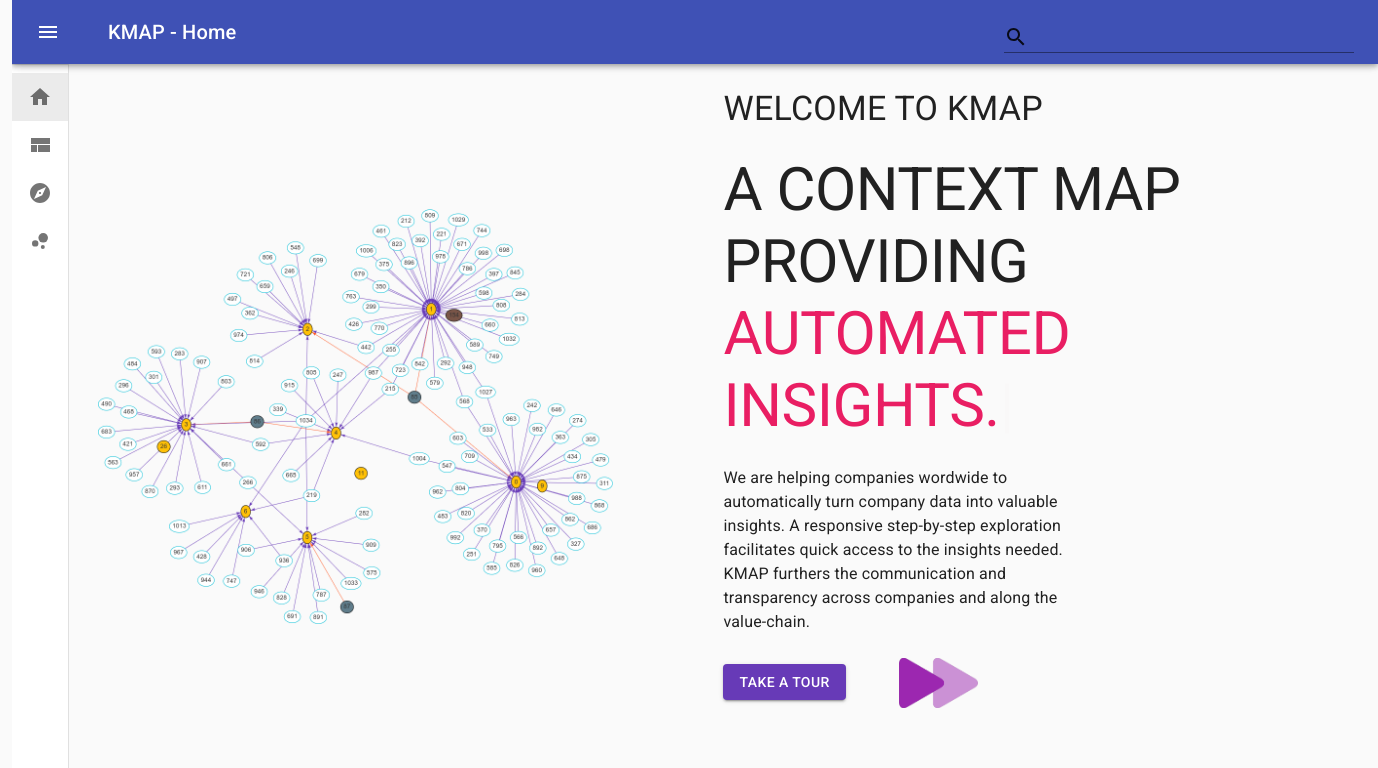
Test: Routes › has an accessible visualization route
The image size is (1378, 768).
Click the button named "open drawer": point(48, 32) [24,8,72,56]
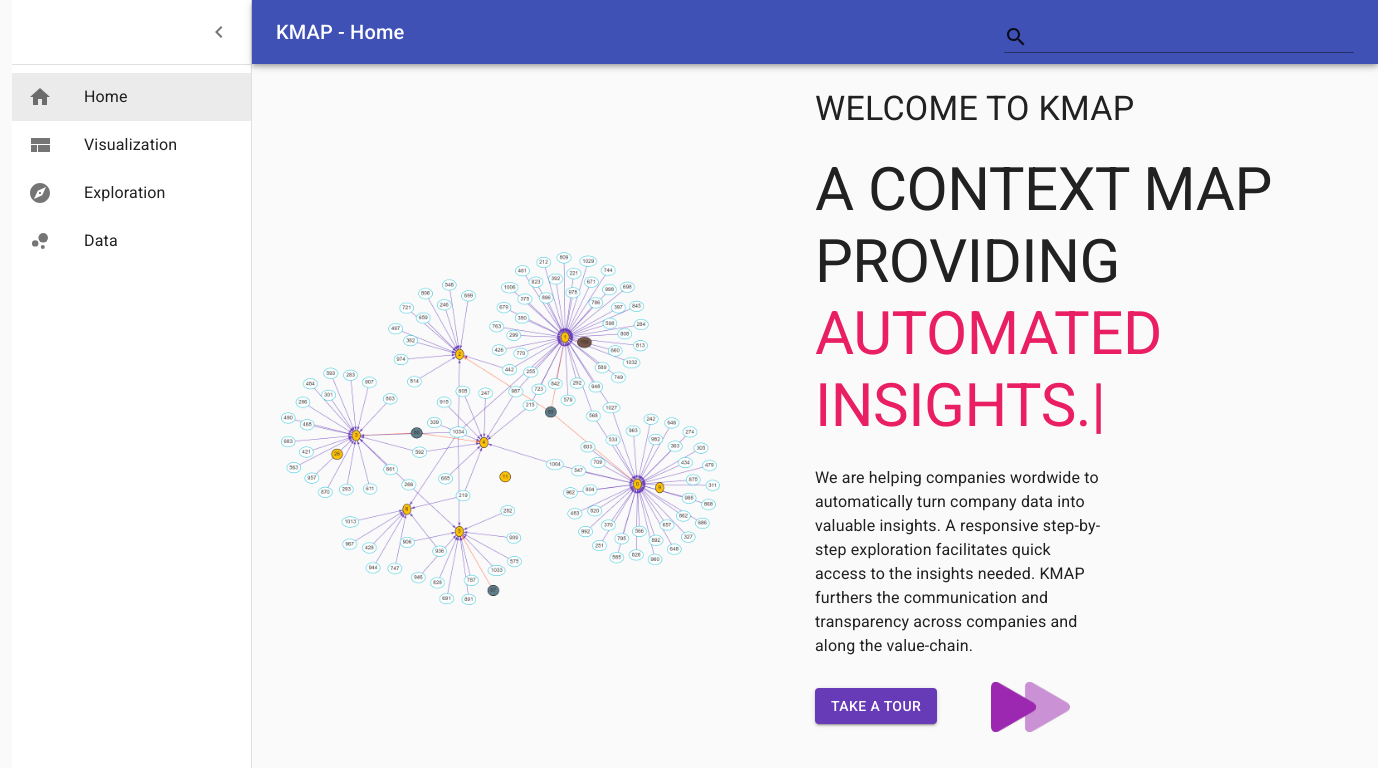
Click the button "Visualization": point(103, 145) [28,133,177,157]
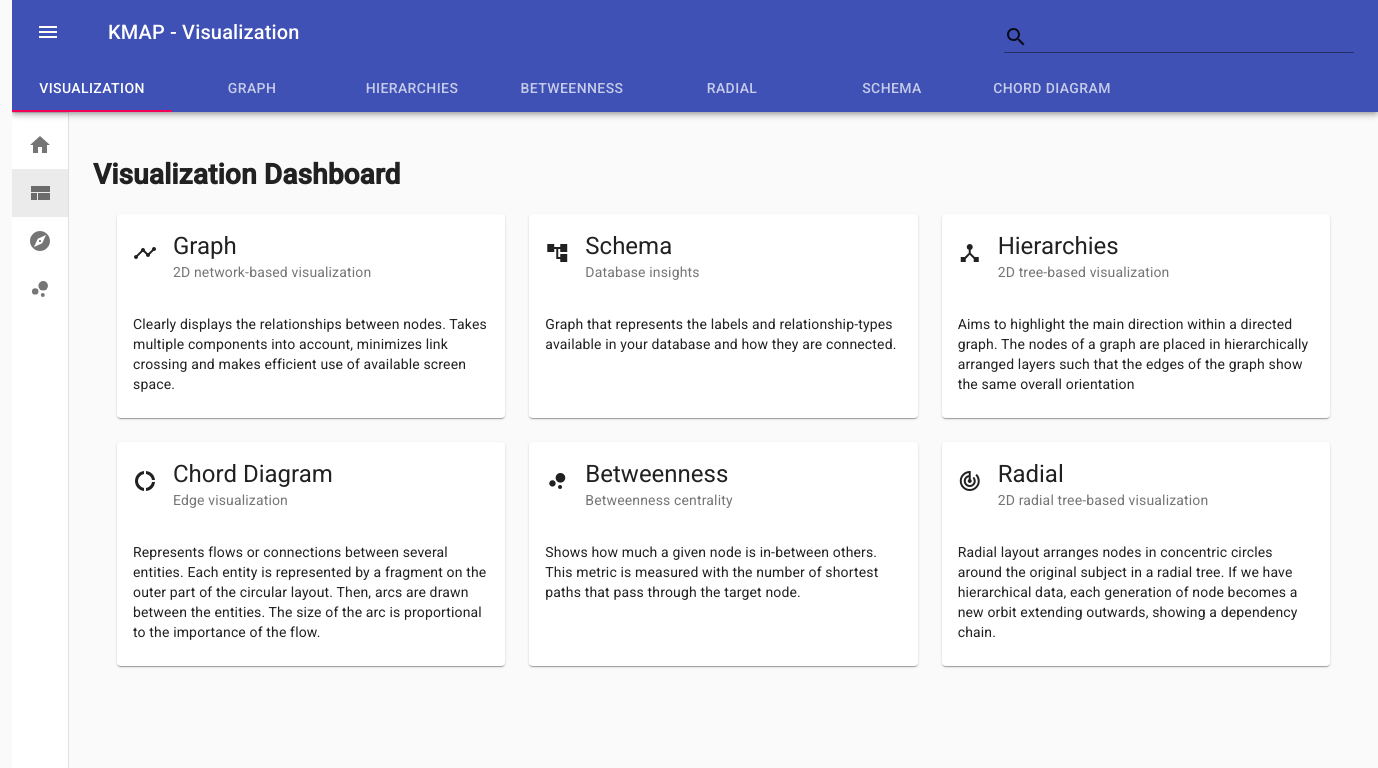
Expected: the heading "KMAP - Visualization" is shown, [108,16,300,48]
